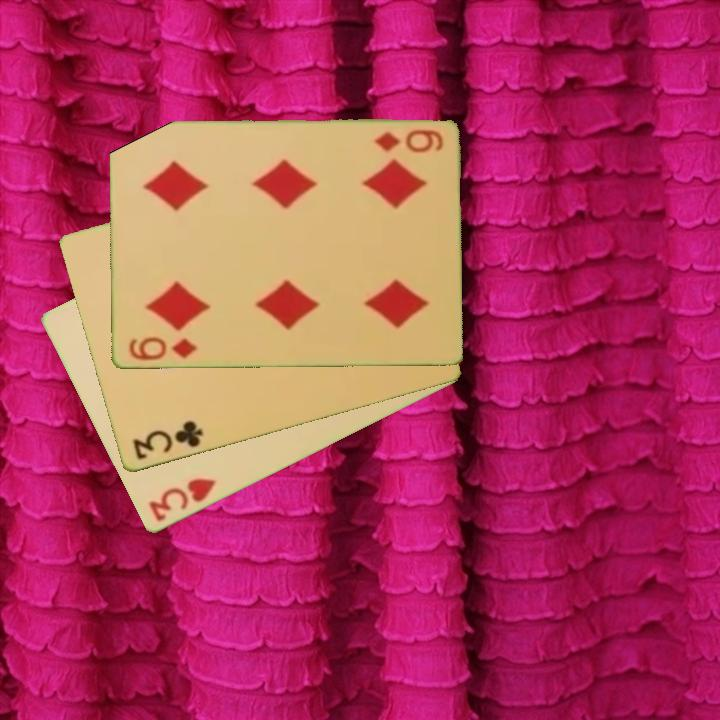3c: (128, 417, 206, 463)
3h: (145, 475, 218, 525)
6d: (371, 126, 446, 157), (125, 334, 200, 363)
